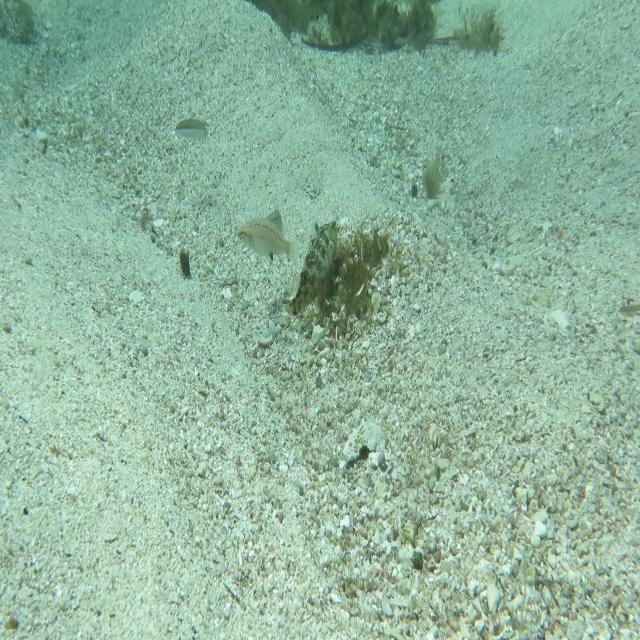Coris_julis_female: (172, 107, 209, 146)
ROLL: (278, 211, 342, 323)
female: (263, 199, 288, 237)
nest: (304, 222, 401, 338)
other_fish: (236, 212, 301, 274)
